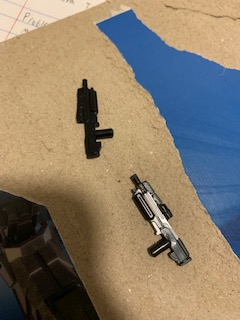rifle: (123, 172, 196, 269), (73, 77, 117, 165)
